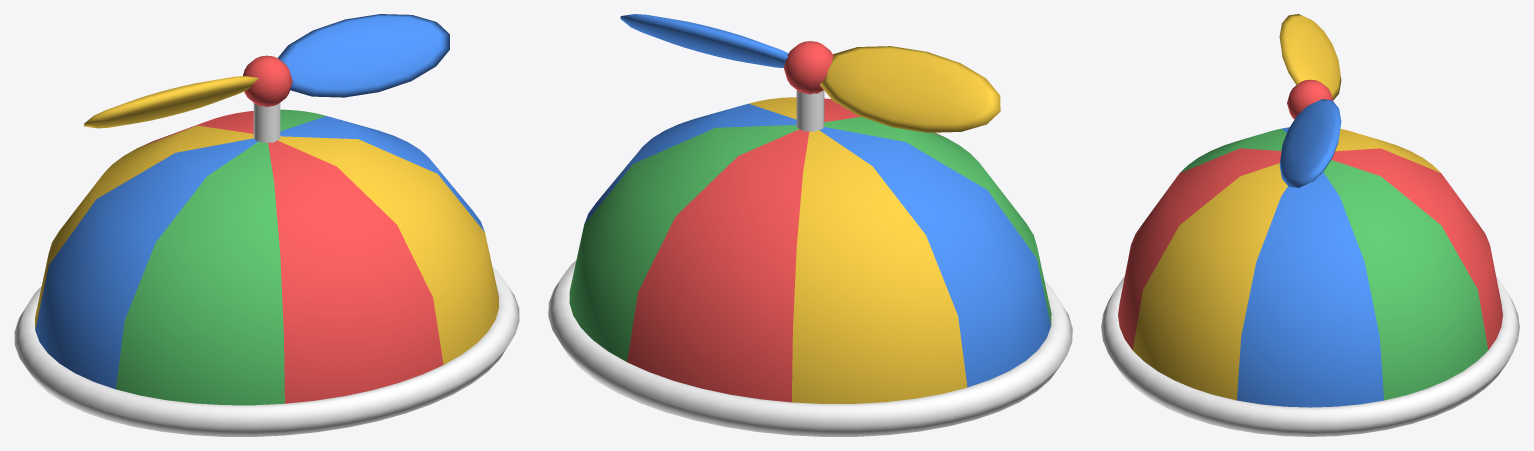
Rendered from propeller_cap.glb.
3 renders of one model, left to right at view 1: azimuth 30°, elevation 25°; view 2: azimuth 150°, elevation 25°; view 3: azimuth 270°, elevation 25°, orthographic. The views are drawn at different scales.
Parts seen in each view (by area): view 1: propeller_cap; view 2: propeller_cap; view 3: propeller_cap.
Boxes of the visible parts, bbox=[...] form: propeller_cap: bbox=[14, 14, 519, 436]; propeller_cap: bbox=[548, 14, 1072, 436]; propeller_cap: bbox=[1101, 14, 1519, 436].
Bounding box in the file's own units: 0.606 × 0.3698 × 0.5333.
